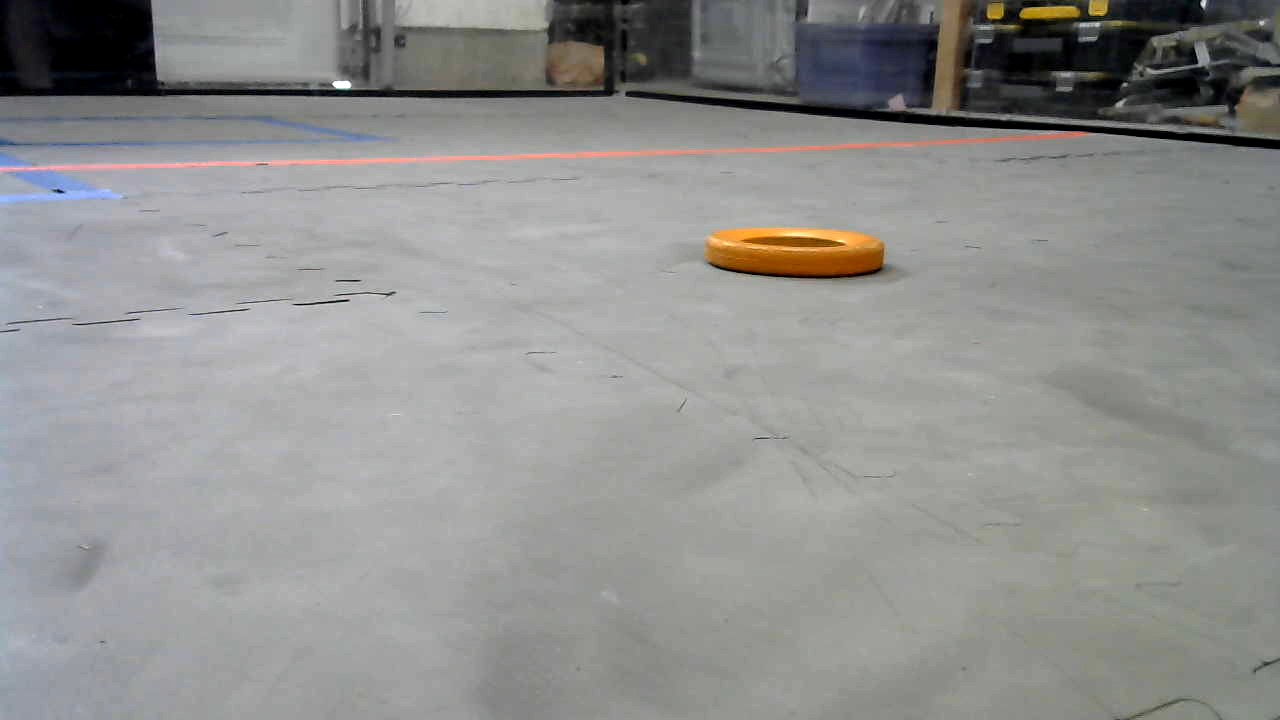OneStack: (706, 226, 887, 275)
